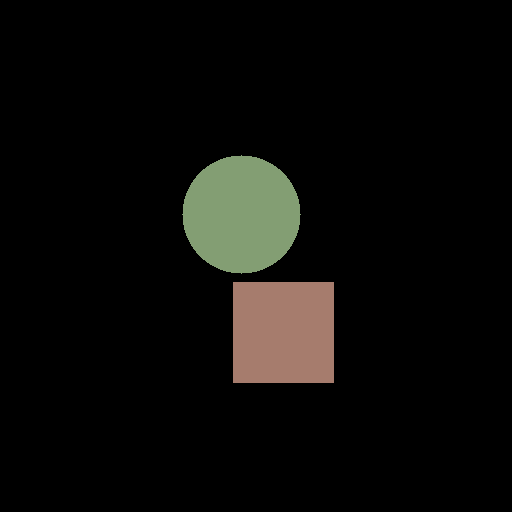circle: (182, 155, 300, 273)
square: (233, 282, 333, 382)
